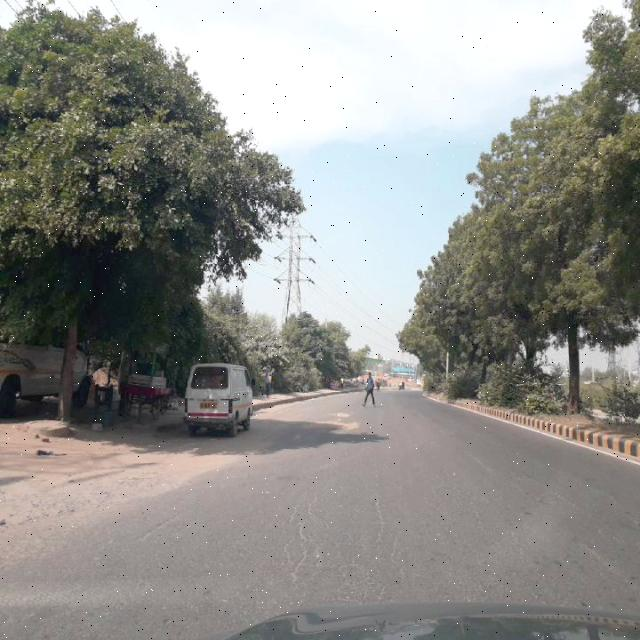D20: (272, 483, 396, 609)
